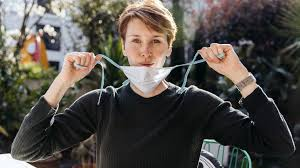without_mask: (121, 21, 174, 67)
